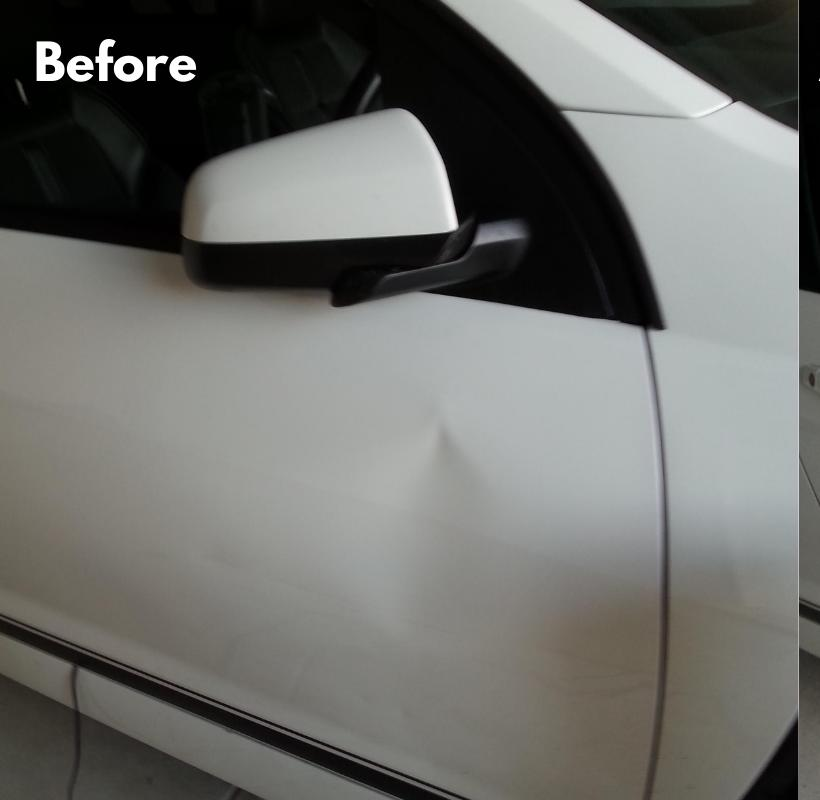dent: (390, 408, 529, 662)
